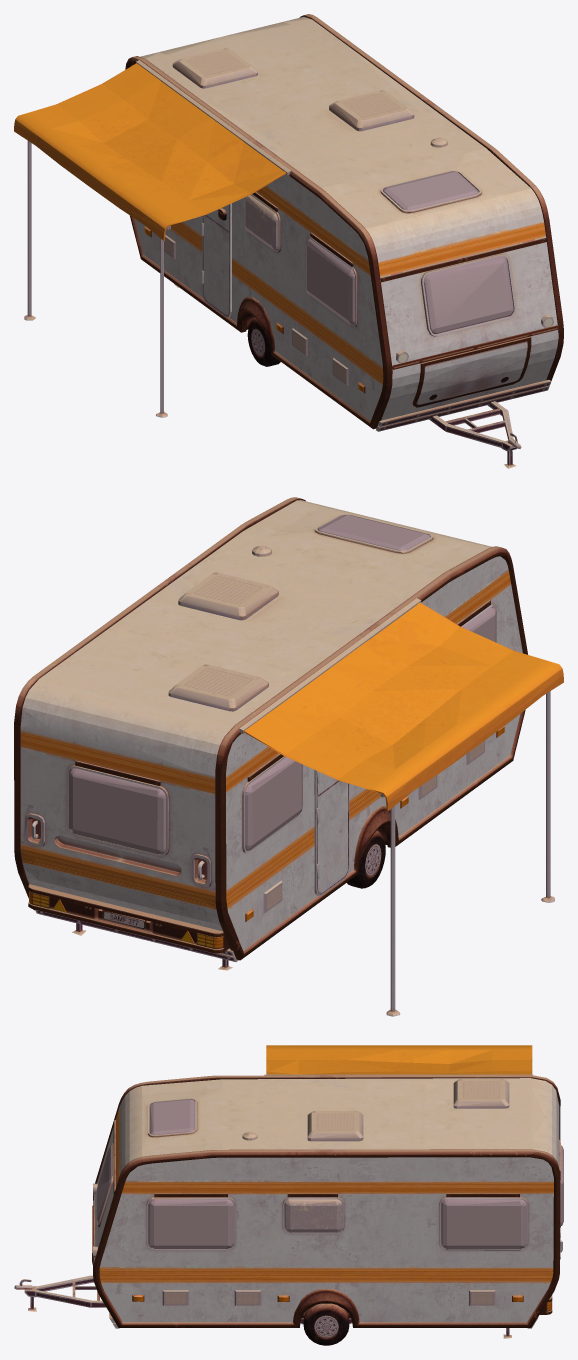
File: mobile_home.gltf
The picture shows the model from 3 angles, top to bottom: view 1: azimuth 30°, elevation 25°; view 2: azimuth 150°, elevation 25°; view 3: azimuth 270°, elevation 25°; orthographic projection. The views are drawn at different scales.
Parts seen in each view (by area): view 1: MobileHome_A; view 2: MobileHome_A; view 3: MobileHome_A.
Part boxes in pixels (left/top/right/bottom): MobileHome_A: left=14, top=14, right=563, bottom=468; MobileHome_A: left=14, top=497, right=563, bottom=1016; MobileHome_A: left=14, top=1045, right=563, bottom=1345.
Bounding box in the file's own units: 10.98 × 7.76 × 19.1.
1 material, 1 textured.
